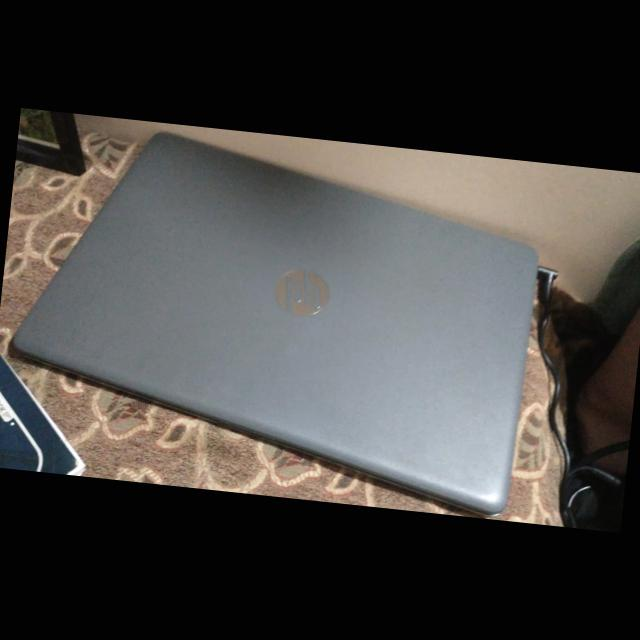laptop: (9, 110, 572, 522)
